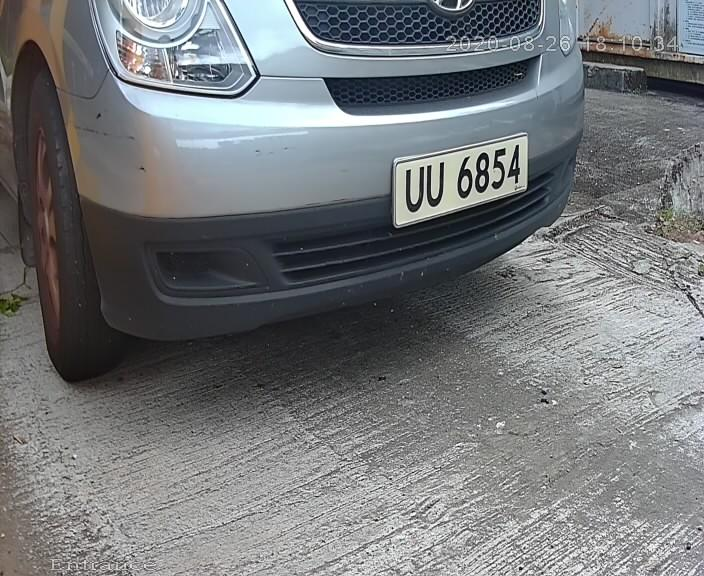License Plate: (378, 124, 544, 235)
